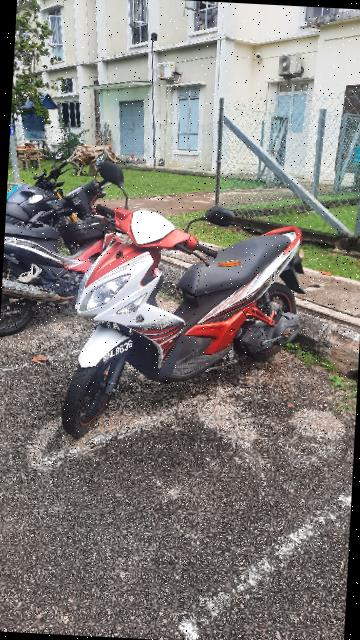License_Plate: (96, 332, 142, 370)
motorcycle: (49, 149, 319, 448)
